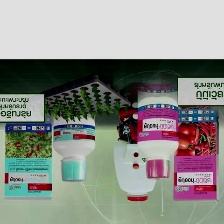carton: (169, 106, 221, 203), (2, 120, 53, 203)
insecticide: (135, 93, 180, 180), (50, 113, 97, 185)
